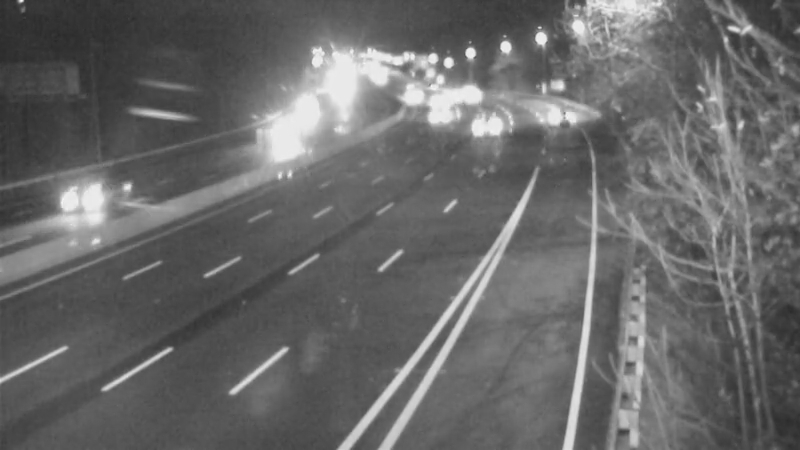vehicle: (47, 166, 127, 246), (411, 76, 461, 126), (525, 99, 575, 149), (412, 91, 462, 141), (460, 103, 510, 153), (257, 111, 307, 161), (279, 86, 329, 136)
